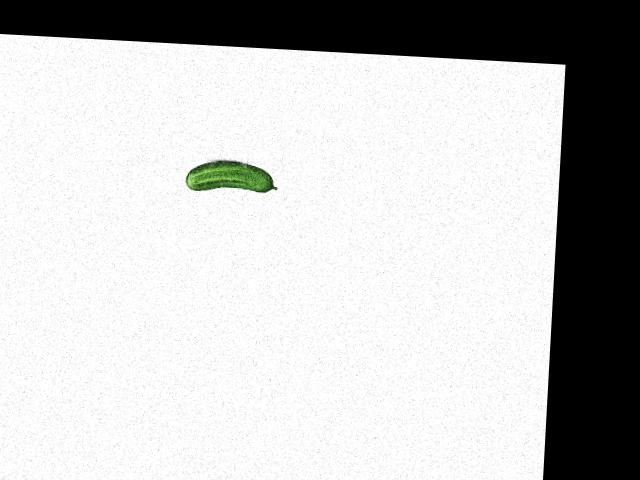cucumber: (184, 158, 278, 194)
